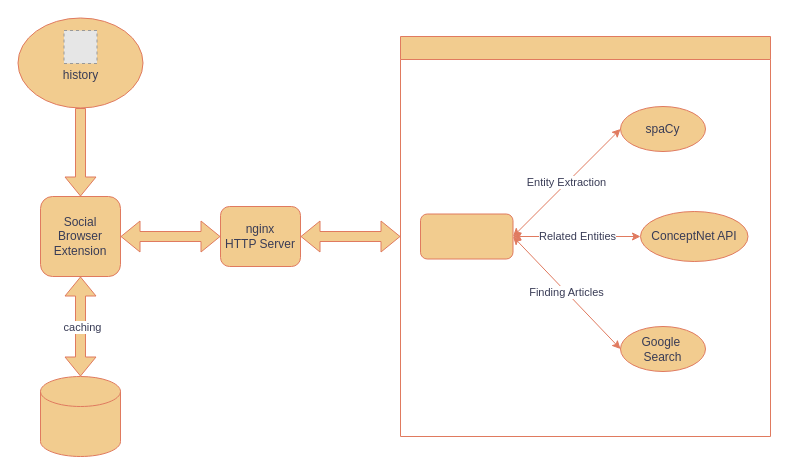
The diagram is 788 pixels wide and 474 high, and some of its shapes have lost their labels. Grey dashed boxes stand in for pictures. Each missing label, with the box of its shape:
app.py: (420, 213, 513, 259)
Flask Backend: (400, 36, 770, 436)
localStorage: (40, 376, 120, 456)
